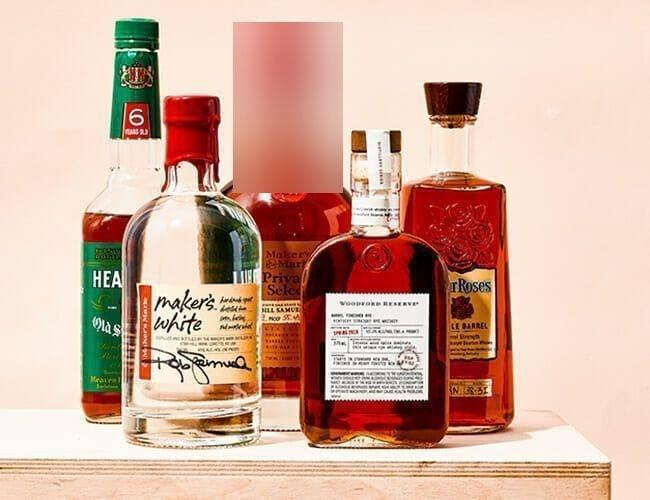bottle-glass: (117, 91, 266, 453), (295, 125, 453, 450), (397, 77, 520, 435), (75, 19, 182, 420)
